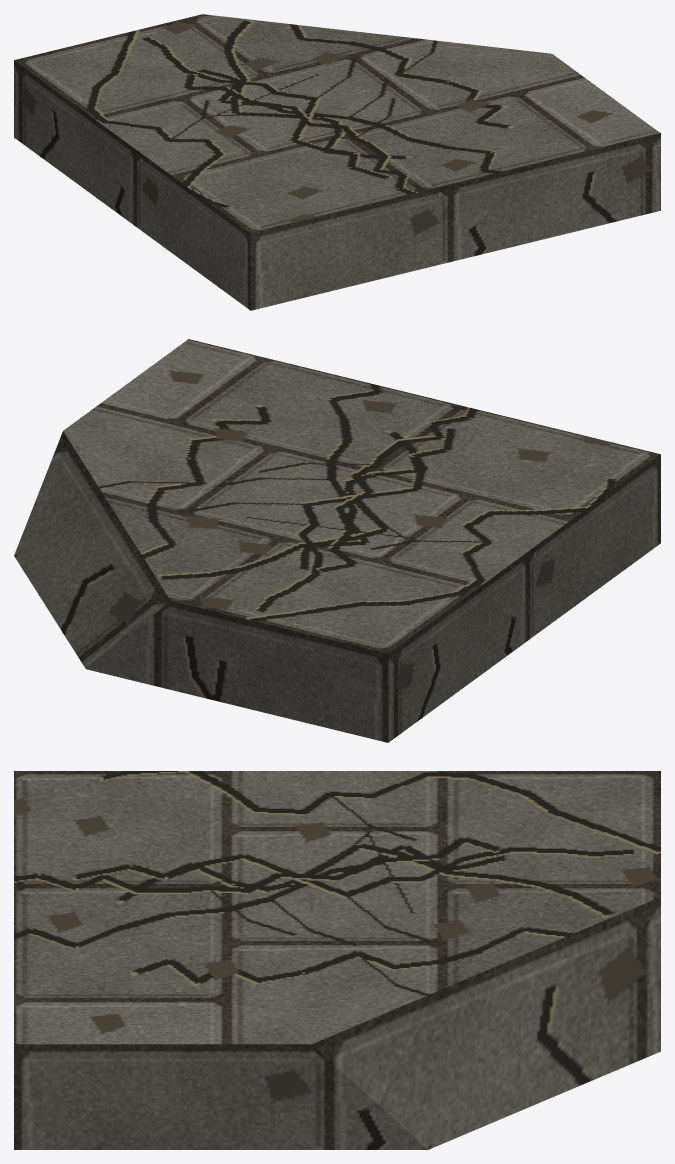
The model's file is floor_z3.glb.
The picture shows the model from 3 angles, top to bottom: view 1: azimuth 30°, elevation 25°; view 2: azimuth 150°, elevation 25°; view 3: azimuth 270°, elevation 25°; orthographic projection. The views are drawn at different scales.
Parts seen in each view (by area): view 1: floor_z3; view 2: floor_z3; view 3: floor_z3.
Boxes of the visible parts, bbox=[...] form: floor_z3: bbox=[14, 14, 660, 310]; floor_z3: bbox=[14, 339, 660, 742]; floor_z3: bbox=[14, 771, 660, 1149].
Size of the model in its own units: 1 by 0.18 by 1.
1 material, 1 textured.
